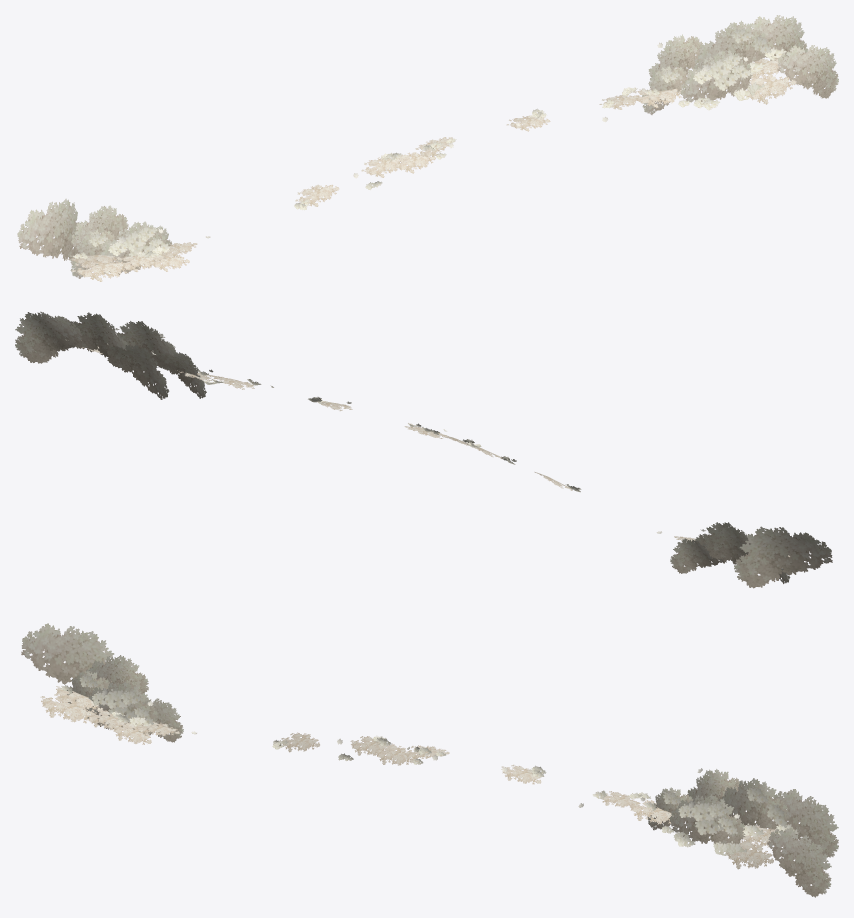
Rendered from flower002.FBX.
The picture shows the model from 3 angles, top to bottom: view 1: azimuth 30°, elevation 25°; view 2: azimuth 150°, elevation 25°; view 3: azimuth 330°, elevation 25°; orthographic projection. The views are drawn at different scales.
Parts seen in each view (by area): view 1: dcsg_model_03_hua_01; view 2: dcsg_model_03_hua_01; view 3: dcsg_model_03_hua_01.
Boxes of the visible parts, x1=… form: dcsg_model_03_hua_01: x1=17, y1=15, x2=838, y2=281; dcsg_model_03_hua_01: x1=15, y1=311, x2=832, y2=588; dcsg_model_03_hua_01: x1=21, y1=623, x2=838, y2=897.
Bounding box in the file's own units: 22.47 × 2.96 × 2.34.
